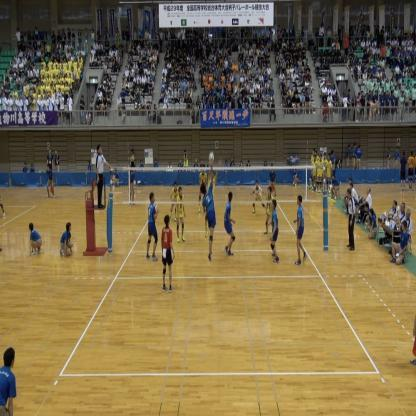spike: (199, 151, 222, 265)
